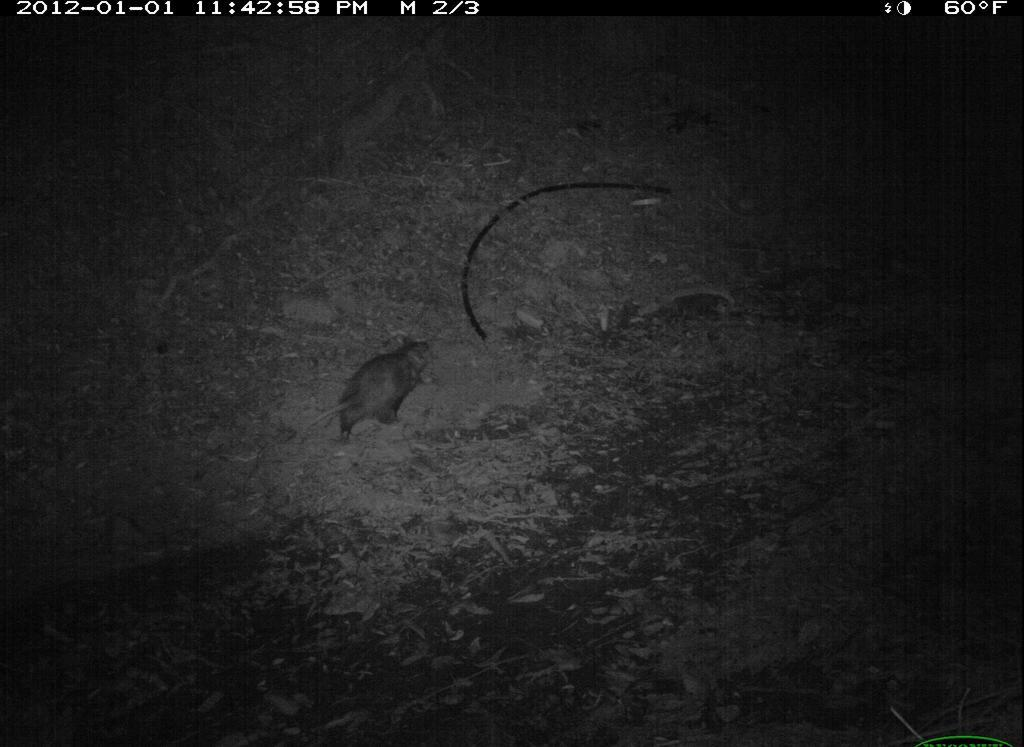opossum: (323, 327, 451, 470)
